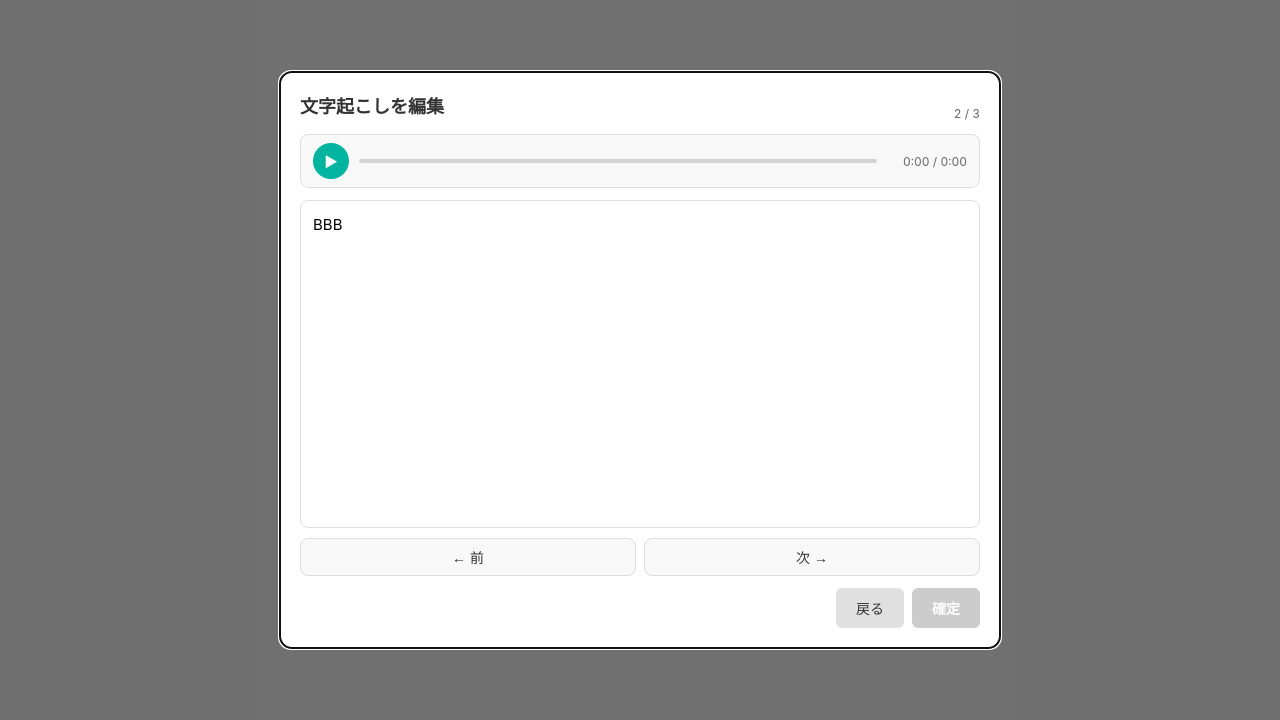
Test: VoiceEditModal — 現状の振る舞い (#379 Step 0 特性テスト) › ★ ← 前 で 1 つ戻る
The image size is (1280, 720).
What coordinates should you click on to do the following:
click the button "← 前"
I would click on:
 (468, 557)
Its box is [300,538,636,576].
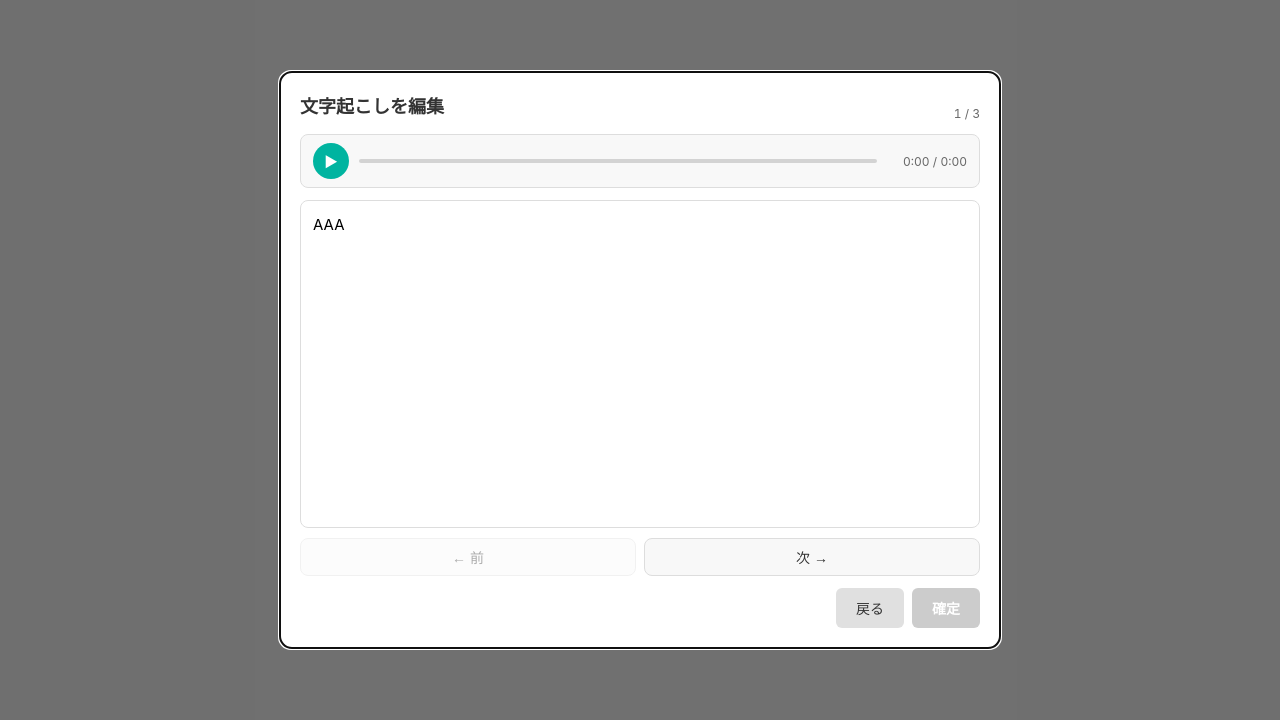
Now the text box holds "AAA", box [300,200,980,528]
